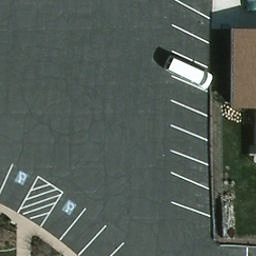car: (244, 0, 256, 12)
van: (162, 55, 215, 90)
